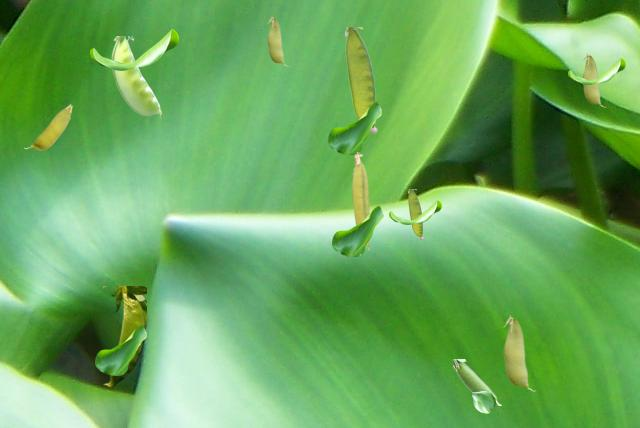pea: (103, 286, 145, 386), (111, 36, 160, 119), (345, 27, 376, 132), (503, 315, 535, 390), (24, 104, 71, 149), (453, 359, 500, 404), (352, 153, 369, 249), (582, 53, 605, 106), (267, 16, 288, 65), (408, 189, 422, 238)
